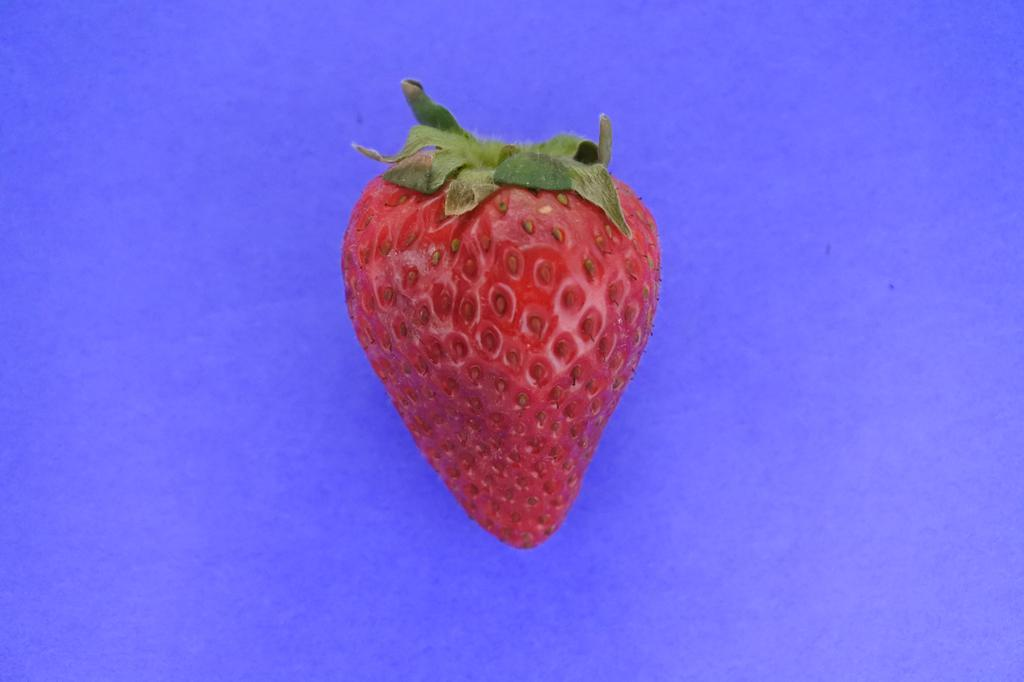red strawberry: (341, 77, 664, 554)
